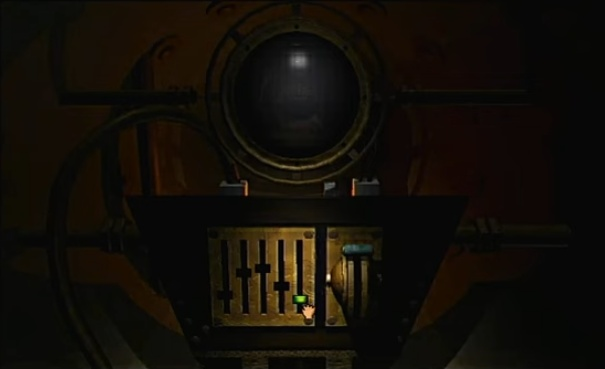Hold: (298, 302, 318, 321)
